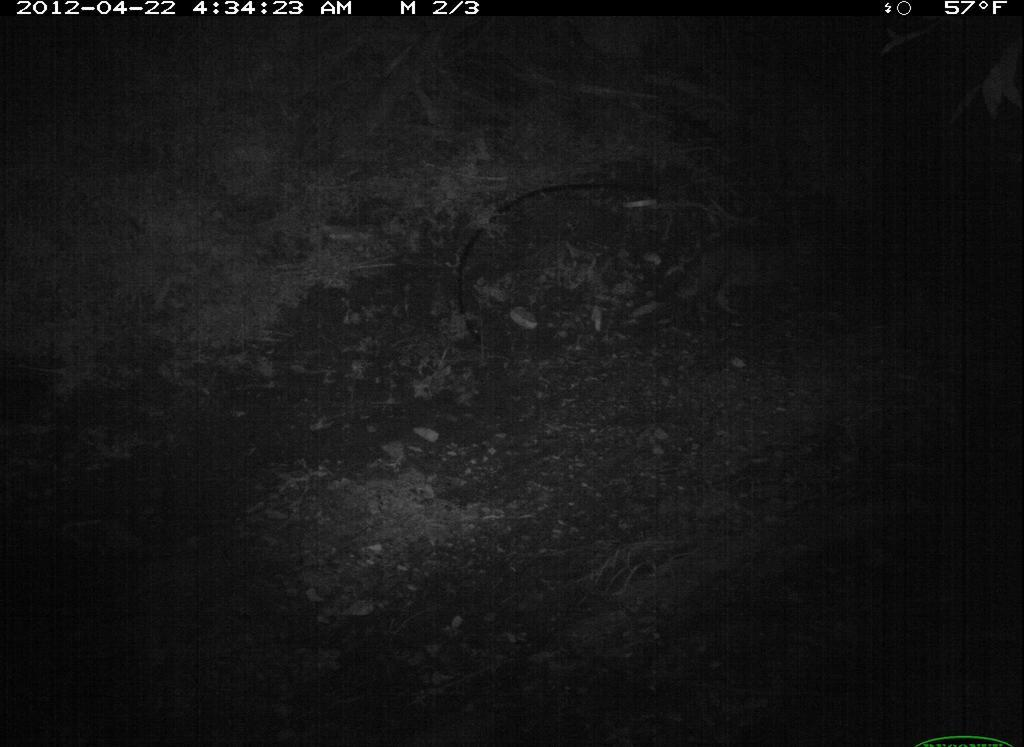cat: (634, 214, 843, 338)
